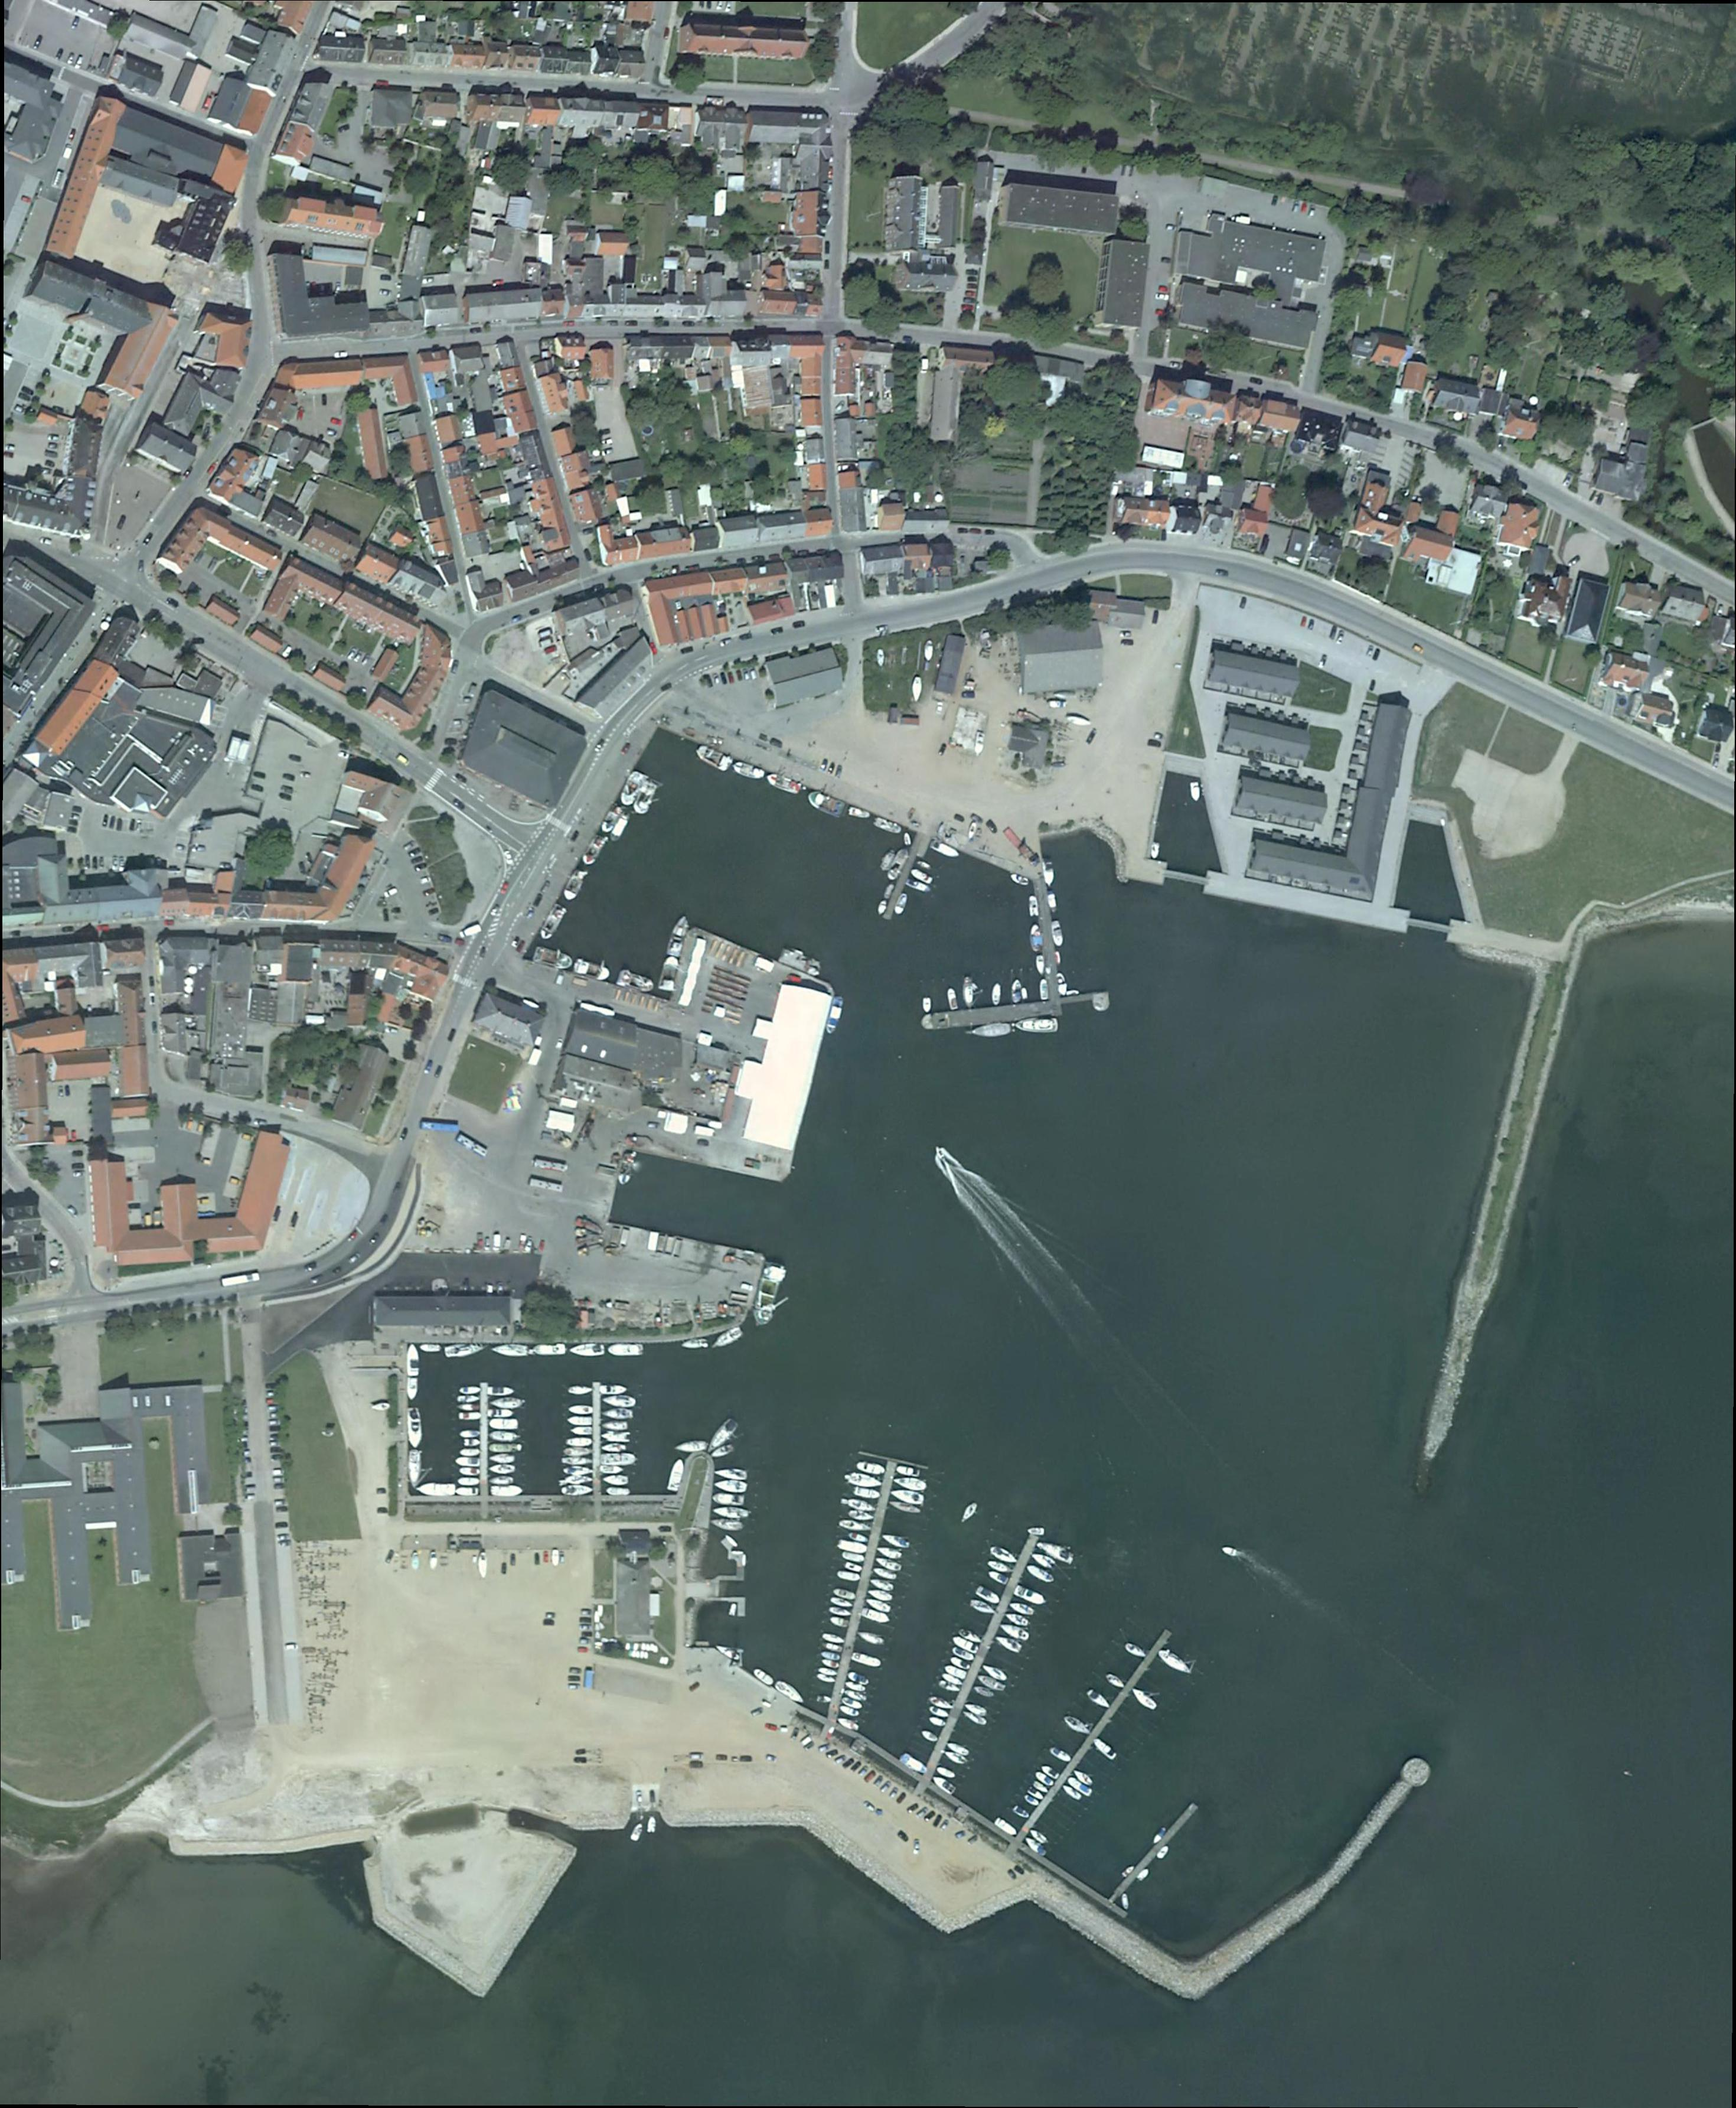harbor: (1013, 1627, 1174, 1845), (922, 1532, 1041, 1784), (828, 1458, 898, 1723), (1318, 1749, 1440, 1891), (1104, 1802, 1200, 1907), (919, 1000, 1052, 1031), (880, 832, 926, 921), (591, 1380, 604, 1497), (480, 1381, 490, 1497)
ship: (749, 1259, 786, 1329), (1155, 1644, 1199, 1677), (805, 786, 849, 819), (705, 1418, 740, 1458), (614, 966, 658, 996), (665, 914, 695, 958), (616, 769, 649, 807), (693, 742, 735, 772), (537, 903, 569, 942), (1034, 1539, 1076, 1567), (1011, 1583, 1052, 1611), (574, 954, 614, 982), (532, 945, 574, 972), (579, 832, 609, 868), (772, 1677, 808, 1707), (884, 846, 912, 882), (443, 1338, 485, 1362), (630, 781, 658, 816), (560, 868, 588, 903), (709, 1325, 745, 1352), (767, 770, 805, 795), (824, 994, 847, 1035), (1022, 1562, 1059, 1586), (1129, 1686, 1160, 1714), (968, 1021, 1013, 1040), (1062, 1711, 1094, 1737), (898, 1751, 931, 1775), (607, 811, 632, 844), (842, 1471, 884, 1490), (406, 1408, 425, 1450), (658, 956, 681, 991), (732, 758, 767, 781), (927, 839, 963, 861), (1090, 1735, 1118, 1763), (1083, 1686, 1115, 1711), (889, 1486, 926, 1507), (598, 804, 623, 835), (667, 1457, 688, 1493), (987, 1542, 1020, 1565), (999, 1621, 1032, 1644), (878, 1530, 914, 1551), (929, 1774, 959, 1798), (618, 1152, 639, 1185), (1015, 1017, 1059, 1033), (857, 1627, 887, 1649), (570, 1341, 609, 1359), (672, 1439, 710, 1457), (994, 1635, 1025, 1656), (949, 1634, 980, 1655), (416, 1481, 458, 1497), (892, 1476, 929, 1493), (975, 1674, 1008, 1693), (871, 816, 905, 835), (957, 1499, 980, 1527), (1022, 1835, 1050, 1858), (490, 1343, 530, 1359), (408, 1448, 423, 1488), (954, 1625, 984, 1646), (712, 1492, 747, 1509), (835, 1518, 873, 1534), (873, 1555, 905, 1574), (861, 1607, 892, 1627), (994, 1816, 1020, 1838), (751, 1665, 777, 1688), (1122, 1639, 1150, 1660), (1047, 1744, 1074, 1765), (1066, 1777, 1094, 1798), (966, 1599, 999, 1616), (854, 1458, 887, 1476), (840, 1497, 877, 1513), (607, 1341, 644, 1357), (1029, 1551, 1059, 1570), (984, 1556, 1013, 1576), (975, 1585, 1001, 1606), (837, 1537, 868, 1555), (851, 1651, 882, 1669), (714, 1465, 749, 1481), (982, 1663, 1010, 1683), (712, 1506, 751, 1520), (406, 1343, 422, 1376), (1003, 1611, 1032, 1628), (1071, 1767, 1096, 1788), (877, 847, 898, 872), (602, 1394, 639, 1408), (487, 1397, 527, 1409), (1008, 1600, 1036, 1618), (835, 1716, 863, 1733), (961, 1711, 989, 1728), (887, 1500, 922, 1514), (868, 1576, 896, 1593), (866, 1586, 894, 1604), (532, 1343, 567, 1357), (714, 1479, 749, 1493), (710, 1518, 745, 1532), (600, 1408, 635, 1422), (1104, 1670, 1127, 1691), (870, 1567, 900, 1583), (875, 1546, 905, 1562), (1029, 923, 1045, 952), (964, 1700, 990, 1718), (927, 1693, 954, 1711), (945, 1740, 971, 1758), (892, 891, 910, 917), (600, 1453, 637, 1465), (852, 1485, 880, 1500), (847, 1507, 875, 1523), (865, 1599, 892, 1614), (905, 877, 933, 893), (1060, 1784, 1083, 1803), (1029, 1828, 1052, 1847), (985, 1569, 1010, 1586), (943, 1663, 968, 1681), (936, 1677, 961, 1695), (1032, 1770, 1057, 1788), (910, 867, 935, 884), (831, 1586, 857, 1602), (828, 1595, 854, 1611), (943, 1751, 970, 1767), (1050, 921, 1066, 947), (1041, 861, 1057, 888), (488, 1418, 521, 1430), (949, 1655, 971, 1672), (1010, 1803, 1032, 1821), (826, 1606, 854, 1620), (950, 1646, 975, 1662), (973, 1684, 998, 1700), (940, 1672, 964, 1688), (847, 1670, 871, 1686), (963, 977, 975, 1008), (556, 1476, 593, 1486), (842, 1688, 868, 1702), (840, 1551, 866, 1565), (835, 1569, 861, 1583), (819, 1641, 845, 1655), (1039, 1763, 1060, 1781), (1151, 1826, 1169, 1847), (910, 676, 924, 702), (847, 805, 873, 819), (558, 1485, 593, 1495), (488, 1432, 523, 1443), (488, 1443, 523, 1453), (681, 1338, 710, 1350), (598, 1443, 628, 1455), (600, 1474, 630, 1486), (935, 1765, 957, 1781), (1025, 895, 1041, 917), (840, 1697, 865, 1711), (826, 1614, 851, 1628), (1055, 972, 1069, 996), (1188, 779, 1202, 804), (488, 1474, 516, 1486), (1031, 1779, 1050, 1796), (1020, 1793, 1041, 1809), (485, 1408, 516, 1418), (487, 1385, 518, 1395), (821, 1632, 847, 1644), (1011, 977, 1024, 1003), (947, 986, 959, 1012), (973, 730, 985, 756), (567, 1415, 593, 1427), (457, 1409, 483, 1422), (455, 1457, 481, 1469), (838, 1705, 861, 1719), (927, 1705, 950, 1719), (845, 1679, 868, 1693), (847, 1530, 870, 1544), (563, 1437, 593, 1448), (1155, 1844, 1172, 1861), (490, 1486, 525, 1495), (921, 1728, 940, 1744), (1025, 1786, 1045, 1802), (1220, 1542, 1239, 1558), (896, 1465, 921, 1478), (816, 1670, 837, 1684), (630, 1823, 644, 1844), (1010, 872, 1031, 886), (604, 1486, 632, 1497), (488, 1465, 516, 1476), (560, 1467, 593, 1476), (990, 982, 1003, 1005), (406, 1378, 418, 1401), (478, 1551, 488, 1577), (1120, 1863, 1137, 1879), (602, 1420, 628, 1430), (598, 1464, 625, 1474), (562, 1457, 593, 1465), (843, 1560, 863, 1574), (563, 1448, 593, 1457), (598, 1385, 628, 1394), (1025, 1525, 1047, 1537), (819, 1658, 840, 1670), (817, 1665, 838, 1677), (927, 1716, 949, 1728), (1047, 891, 1059, 912), (371, 1401, 392, 1413), (569, 1385, 593, 1395), (455, 1486, 480, 1497), (1136, 1866, 1151, 1882), (819, 1651, 842, 1662), (924, 637, 935, 660), (570, 1425, 593, 1436), (455, 1402, 481, 1411), (490, 1455, 516, 1464), (1039, 979, 1050, 1000), (1034, 954, 1045, 975), (877, 898, 889, 916), (569, 1406, 593, 1415), (455, 1395, 480, 1404), (457, 1476, 481, 1485), (875, 648, 886, 667), (462, 1437, 481, 1448), (458, 1385, 481, 1394), (458, 1448, 481, 1457), (458, 1467, 481, 1476), (1150, 842, 1160, 860), (968, 821, 978, 839), (420, 1343, 441, 1352), (431, 1549, 439, 1570), (411, 1549, 420, 1570), (458, 1430, 481, 1437), (648, 1816, 656, 1833), (551, 1549, 560, 1567), (903, 832, 914, 846), (1122, 1893, 1131, 1908), (922, 998, 931, 1012)
